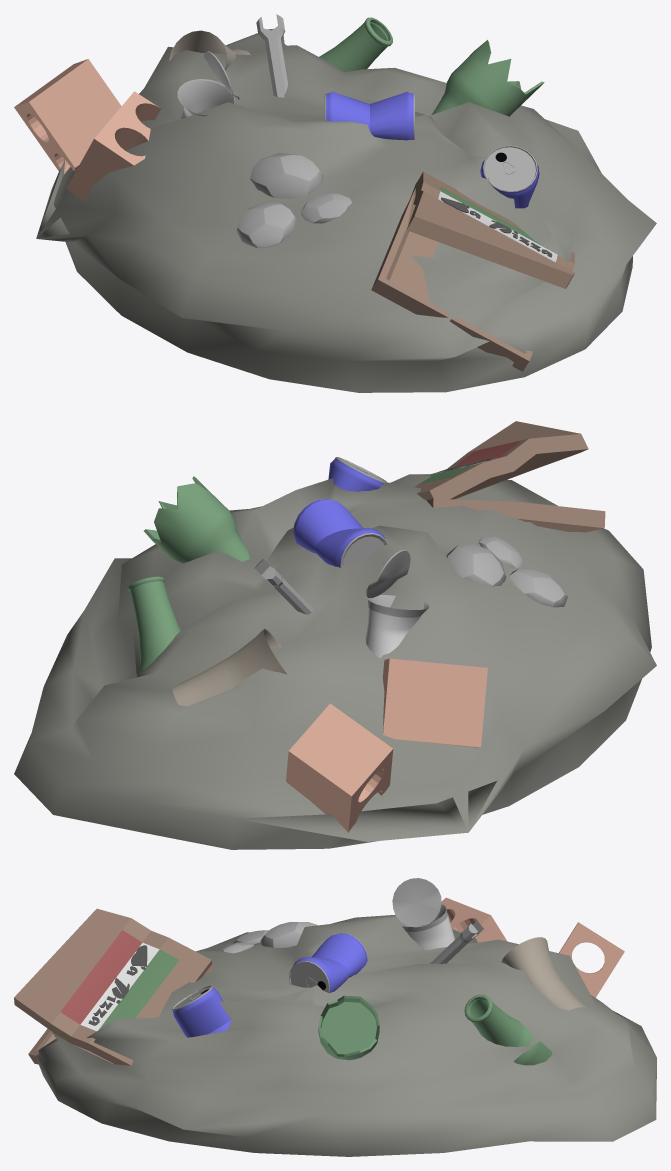
Rendered from Trash Pile 1.fbx.
The picture shows the model from 3 angles, top to bottom: view 1: azimuth 30°, elevation 25°; view 2: azimuth 150°, elevation 25°; view 3: azimuth 270°, elevation 25°; orthographic projection. The views are drawn at different scales.
Parts seen in each view (by area): view 1: pCylinder41; view 2: pCylinder41; view 3: pCylinder41.
Part boxes in pixels (<box>): pCylinder41: <box>14,14,656,392</box>; pCylinder41: <box>14,421,656,849</box>; pCylinder41: <box>14,878,656,1156</box>.
Size of the model in its own units: 1.97 by 0.8039 by 2.73.
